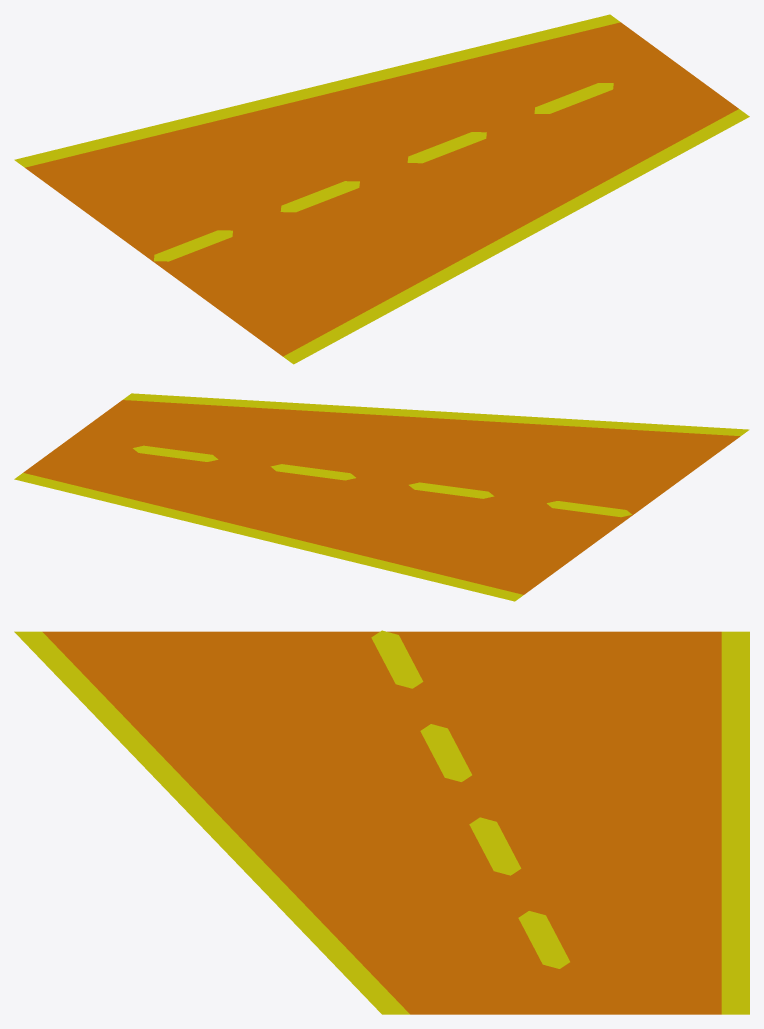
Rendered from Mesh_road_reduce.fbx.
3 renders of one model, top to bottom at view 1: azimuth 30°, elevation 25°; view 2: azimuth 150°, elevation 25°; view 3: azimuth 270°, elevation 25°, orthographic. The views are drawn at different scales.
Parts seen in each view (by area): view 1: Mesh_road_reduce; view 2: Mesh_road_reduce; view 3: Mesh_road_reduce.
Boxes of the visible parts, box(x1,y1,x2,y2) form: Mesh_road_reduce: box(14, 14, 749, 364); Mesh_road_reduce: box(14, 393, 749, 601); Mesh_road_reduce: box(14, 630, 749, 1014).
Size of what is drawn, in the model's own units: 1600 by 2.5 by 1300.
